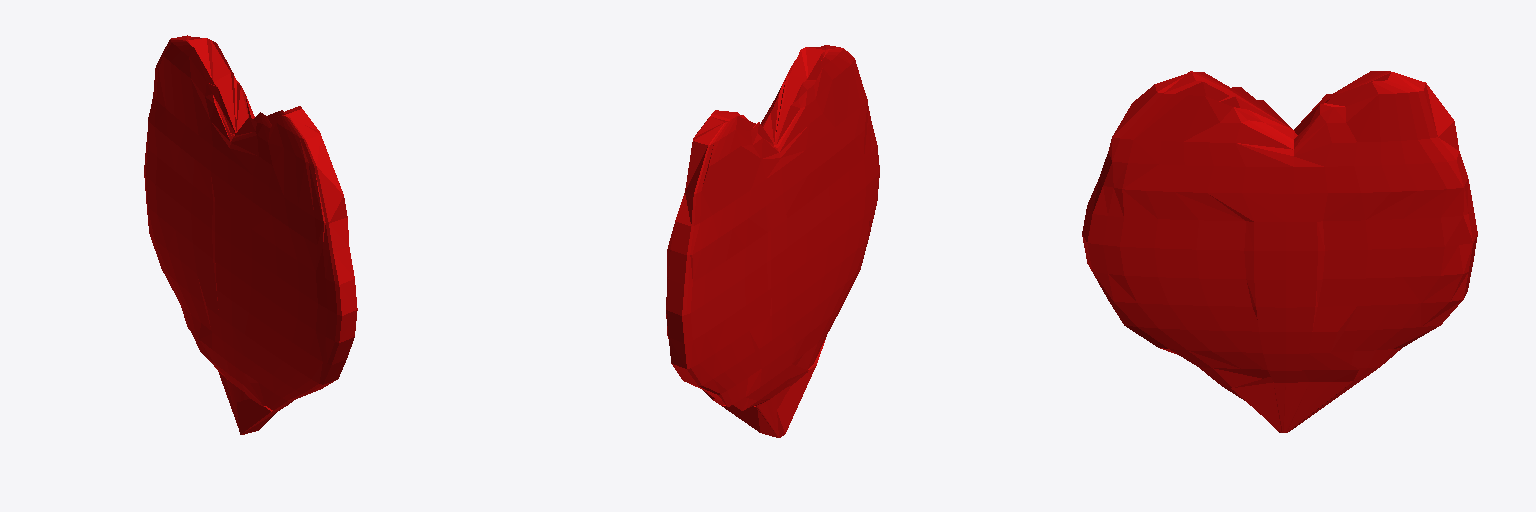
3 views of the same model, side by side, from view 1: azimuth 30°, elevation 25°; view 2: azimuth 150°, elevation 25°; view 3: azimuth 270°, elevation 25° (orthographic).
Visible parts, largest first — view 1: Sphere; view 2: Sphere; view 3: Sphere.
Boxes of the visible parts, x1=… form: Sphere: x1=144, y1=35, x2=357, y2=434; Sphere: x1=666, y1=45, x2=879, y2=437; Sphere: x1=1082, y1=71, x2=1477, y2=432.
Bounding box in the file's own units: 0.3137 × 2.39 × 2.41.
Materials: 1 (1 with a texture image).